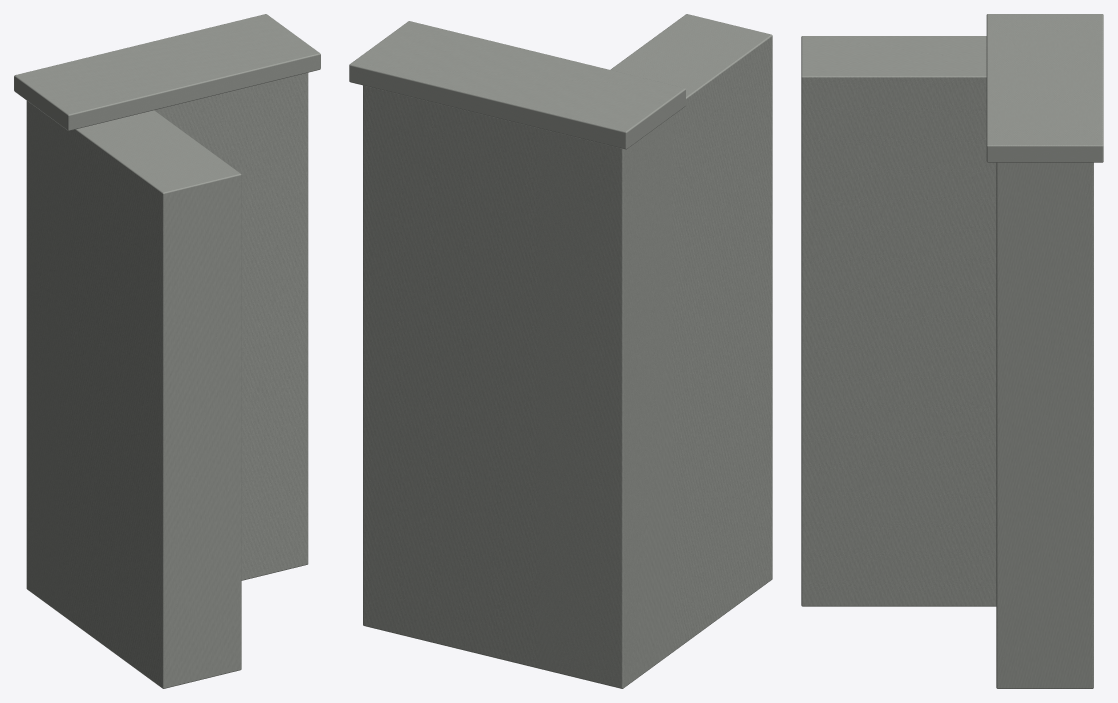
The model's file is hydroelectric-dam-infiltration-dam-wall-return-e5f07c93__29329.glb.
The picture shows the model from 3 angles, left to right: view 1: azimuth 30°, elevation 25°; view 2: azimuth 150°, elevation 25°; view 3: azimuth 270°, elevation 25°; orthographic projection. The views are drawn at different scales.
Visible parts, largest first — view 1: dam-wall-return; view 2: dam-wall-return; view 3: dam-wall-return.
Part boxes in pixels (bbox=[...]): dam-wall-return: bbox=[14, 14, 320, 688]; dam-wall-return: bbox=[349, 14, 772, 688]; dam-wall-return: bbox=[801, 14, 1103, 688].
Bounding box in the file's own units: 3.2 × 6.2 × 3.1.
Materials: 1 (1 with a texture image).
